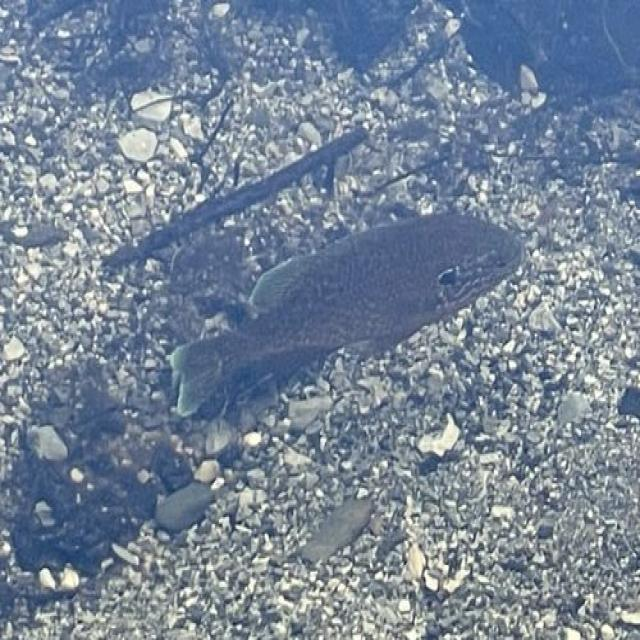Gunes Levregi: (172, 205, 534, 428)
